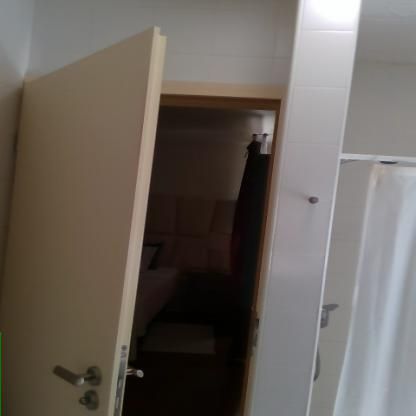semi: (0, 25, 319, 411)
